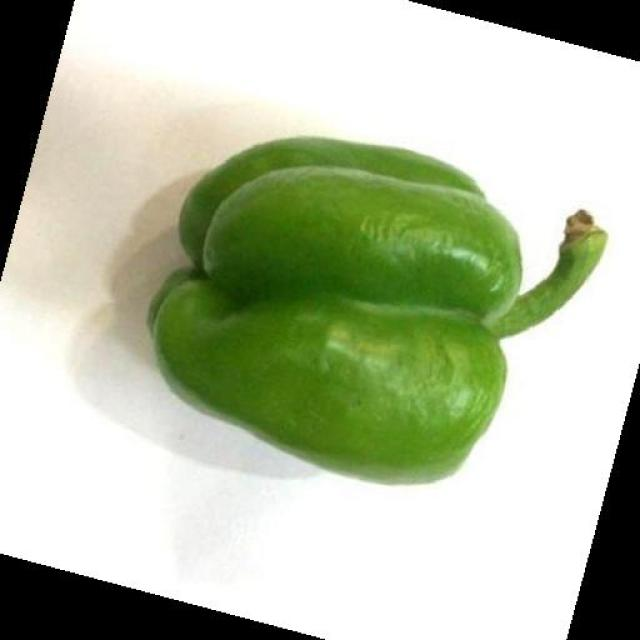Fresh_Capsicum: (173, 100, 568, 468)
